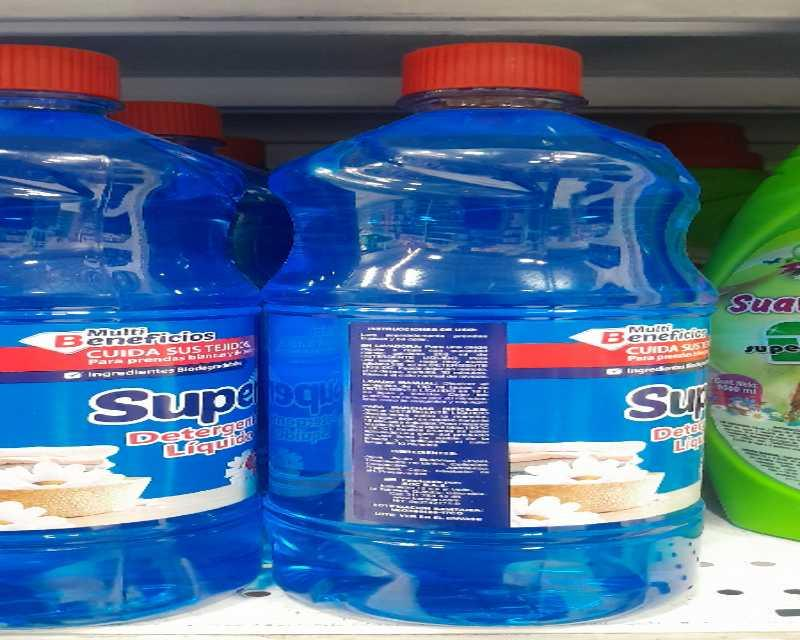SUPER-RIEL-AZUL-BOTELLA-925_50: (270, 23, 711, 607), (1, 38, 268, 625)
